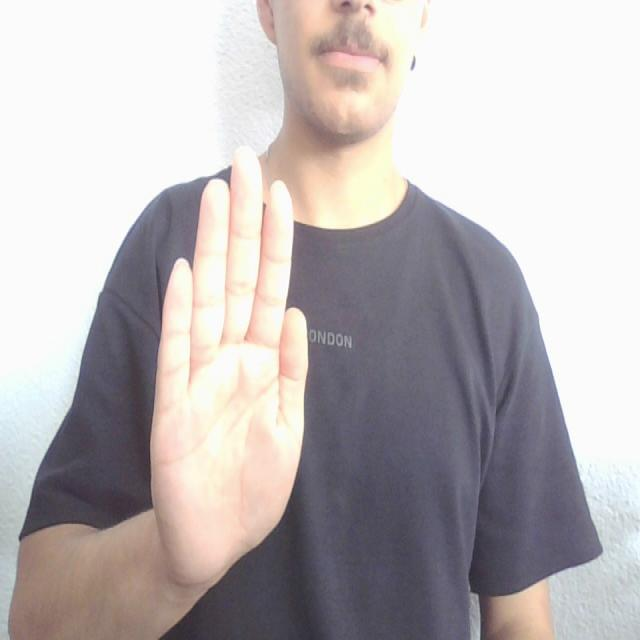Dur: (129, 144, 334, 594)
